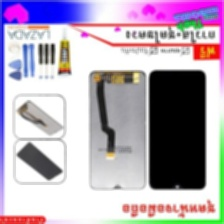phone: (147, 68, 210, 194), (85, 68, 147, 192), (13, 140, 64, 183), (14, 97, 63, 137)
